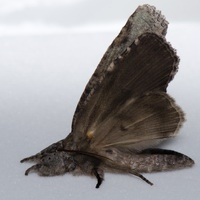insect: (21, 4, 193, 187)
